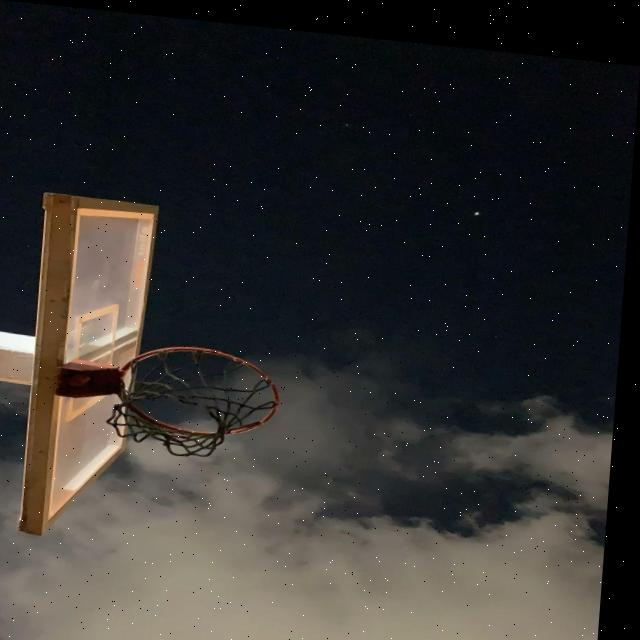hoop: (74, 308, 302, 458)
